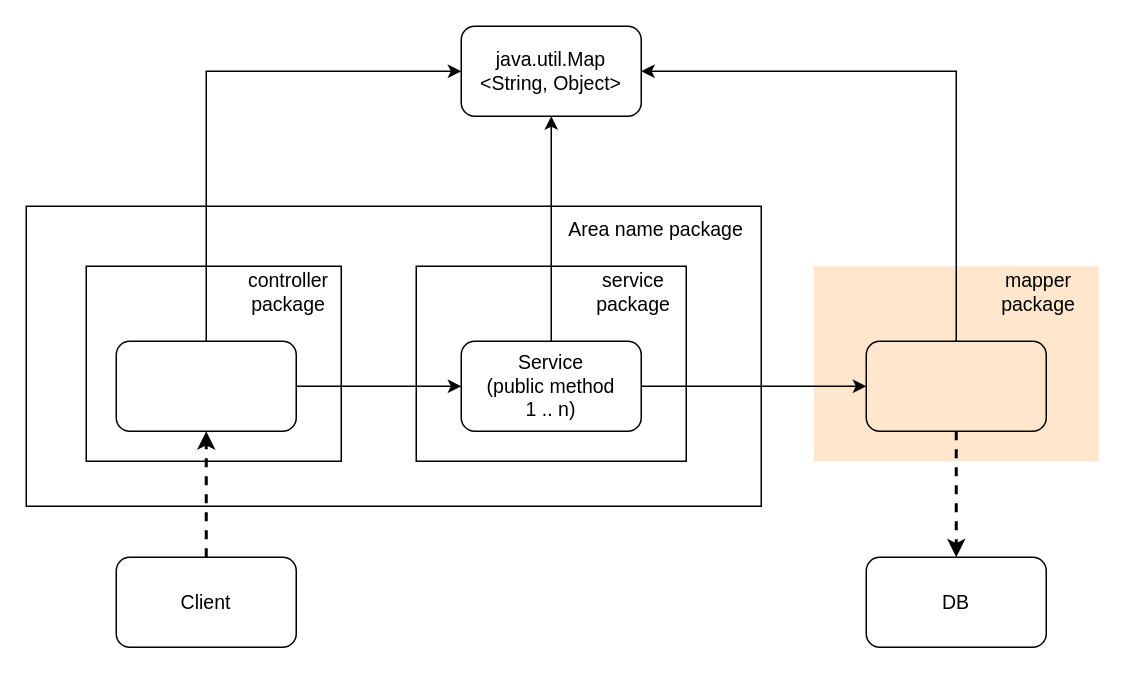
This 1125x674 diagram has some shape labels left out. The shapes that lost their labels are listed below. From the top down, each one's centre as x and y in pixels, then its label:
pixel 205 385: Controller (endpoint 1.. n)
pixel 955 385: Mapper (for Mybatis)
